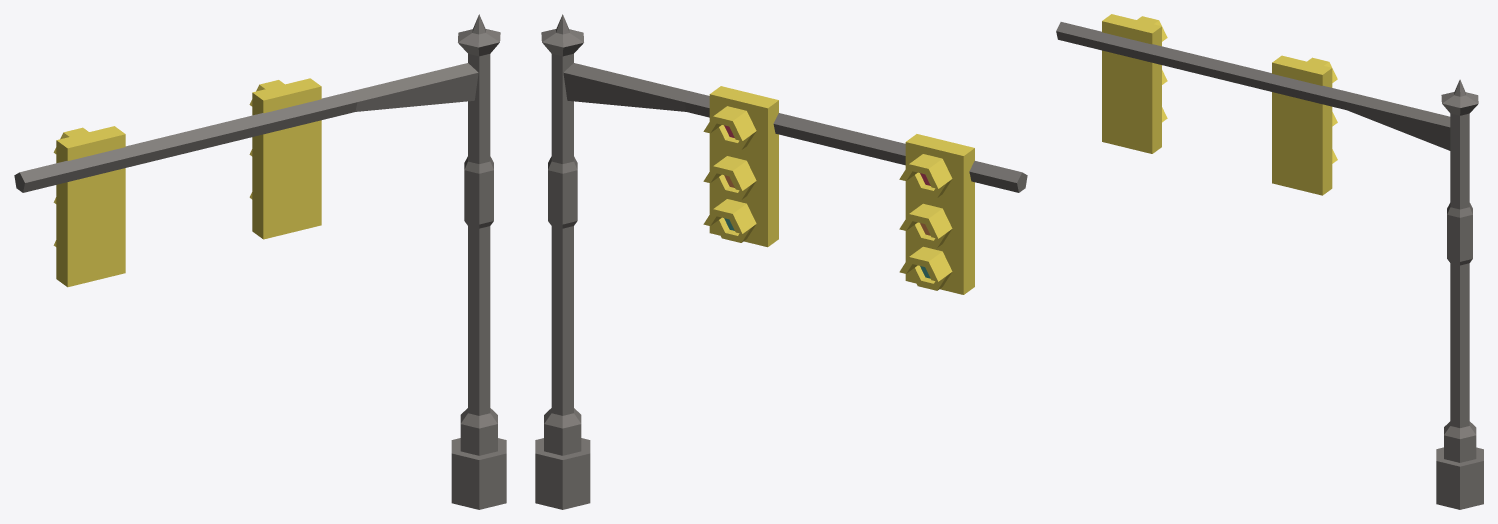
Rendered from TrafficLight.fbx.
The picture shows the model from 3 angles, left to right: view 1: azimuth 30°, elevation 25°; view 2: azimuth 150°, elevation 25°; view 3: azimuth 330°, elevation 25°; orthographic projection. The views are drawn at different scales.
Visible parts, largest first — view 1: pCylinder1, pCylinder2, pCube2, pCube3; view 2: pCylinder1, pCube3, pCube2, pCylinder2; view 3: pCylinder1, pCylinder2, pCube2, pCube3.
Boxes of the visible parts, bbox=[...] form: pCylinder1: bbox=[451, 14, 506, 509]; pCylinder2: bbox=[14, 63, 478, 192]; pCube2: bbox=[249, 78, 321, 239]; pCube3: bbox=[53, 126, 125, 287]; pCylinder1: bbox=[535, 14, 590, 509]; pCube3: bbox=[899, 134, 974, 294]; pCube2: bbox=[703, 86, 778, 247]; pCylinder2: bbox=[563, 63, 1027, 192]; pCylinder1: bbox=[1436, 79, 1483, 509]; pCylinder2: bbox=[1056, 22, 1450, 150]; pCube2: bbox=[1272, 55, 1337, 195]; pCube3: bbox=[1102, 14, 1167, 153].
Size of the model in its own units: 25.12 by 23.79 by 3.46.
